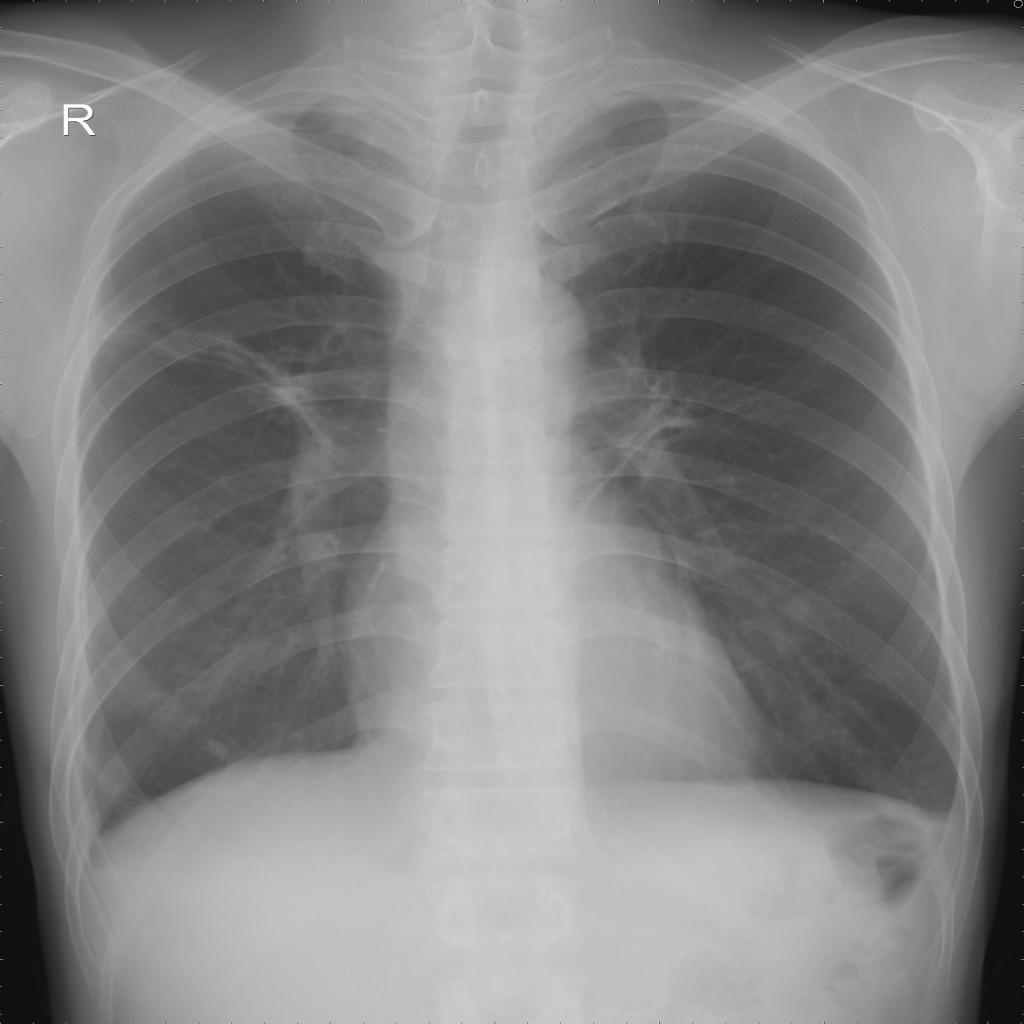Nodule: (201, 738, 230, 757)
